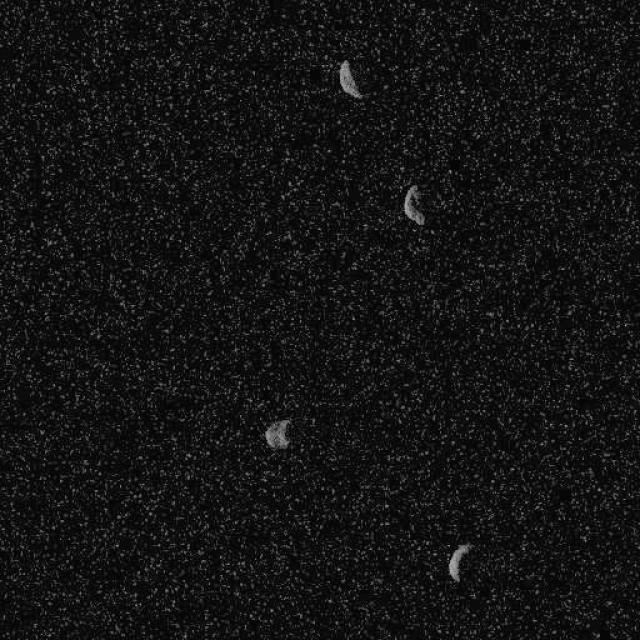D2: (338, 58, 363, 98), (447, 542, 472, 582), (401, 184, 425, 225), (264, 418, 291, 450)
